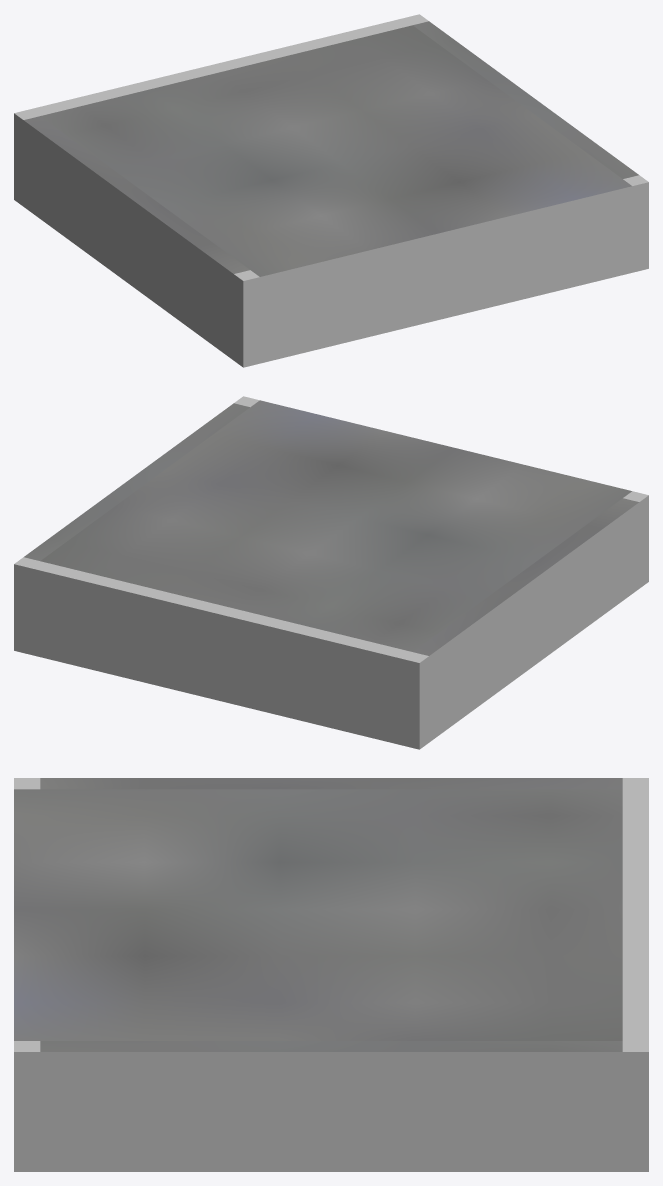
Rendered from JpHouse_Msite02d.fbx.
3 renders of one model, top to bottom at view 1: azimuth 30°, elevation 25°; view 2: azimuth 150°, elevation 25°; view 3: azimuth 270°, elevation 25°, orthographic. The views are drawn at different scales.
Visible parts, largest first — view 1: JpHouse_Msite02d; view 2: JpHouse_Msite02d; view 3: JpHouse_Msite02d.
Part boxes in pixels (box(x1,y1,x2,y2)): JpHouse_Msite02d: box(14, 14, 648, 367); JpHouse_Msite02d: box(14, 396, 648, 749); JpHouse_Msite02d: box(14, 778, 648, 1171).
Size of the model in its own units: 2.45 by 0.5 by 2.4.
